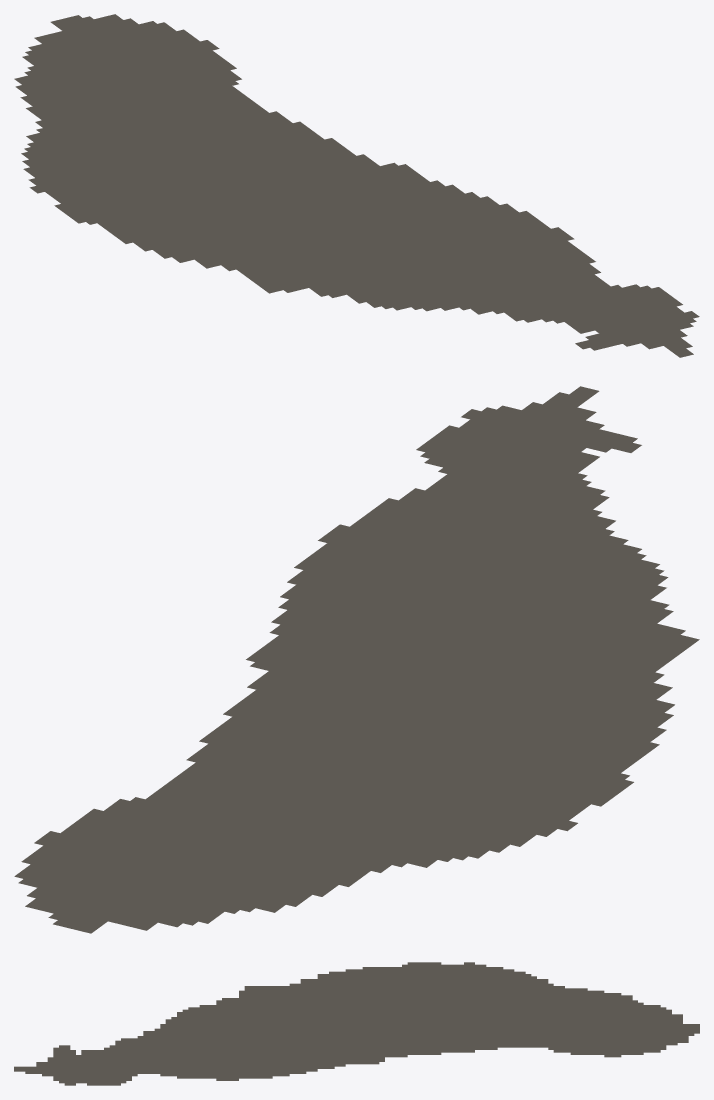
Rendered from Isl-long4-NoBuildArea.fbx.
3 renders of one model, top to bottom at view 1: azimuth 30°, elevation 25°; view 2: azimuth 150°, elevation 25°; view 3: azimuth 270°, elevation 25°, orthographic. The views are drawn at different scales.
Parts seen in each view (by area): view 1: Isl-long4-NoBuildArea; view 2: Isl-long4-NoBuildArea; view 3: Isl-long4-NoBuildArea.
Boxes of the visible parts, x1,y1,x2,y2 form: Isl-long4-NoBuildArea: (14,14,699,357); Isl-long4-NoBuildArea: (14,386,699,933); Isl-long4-NoBuildArea: (14,962,699,1085).
Bounding box in the file's own units: 52 × 0 × 122.
